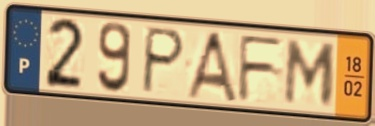2: (44, 15, 87, 92)
9: (96, 20, 134, 96)
A: (182, 29, 241, 105)
F: (236, 33, 287, 104)
M: (281, 37, 339, 108)
P: (139, 24, 188, 96)
